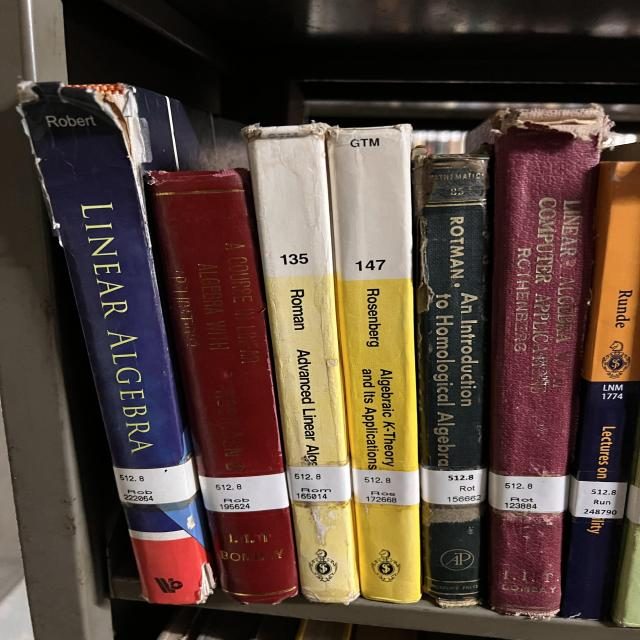Book: (20, 84, 210, 602), (468, 105, 613, 618), (148, 169, 297, 602), (243, 124, 360, 604), (243, 124, 360, 602), (327, 125, 422, 602), (562, 162, 640, 619), (413, 155, 488, 608)
Label: (113, 460, 197, 504), (198, 472, 288, 512)
